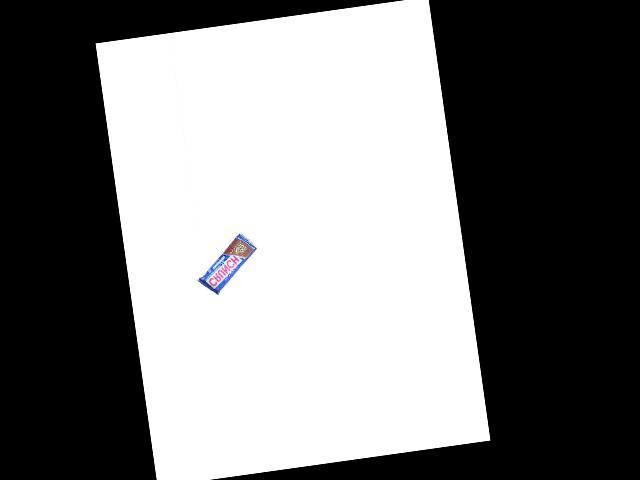chocolate: (190, 229, 264, 298)
